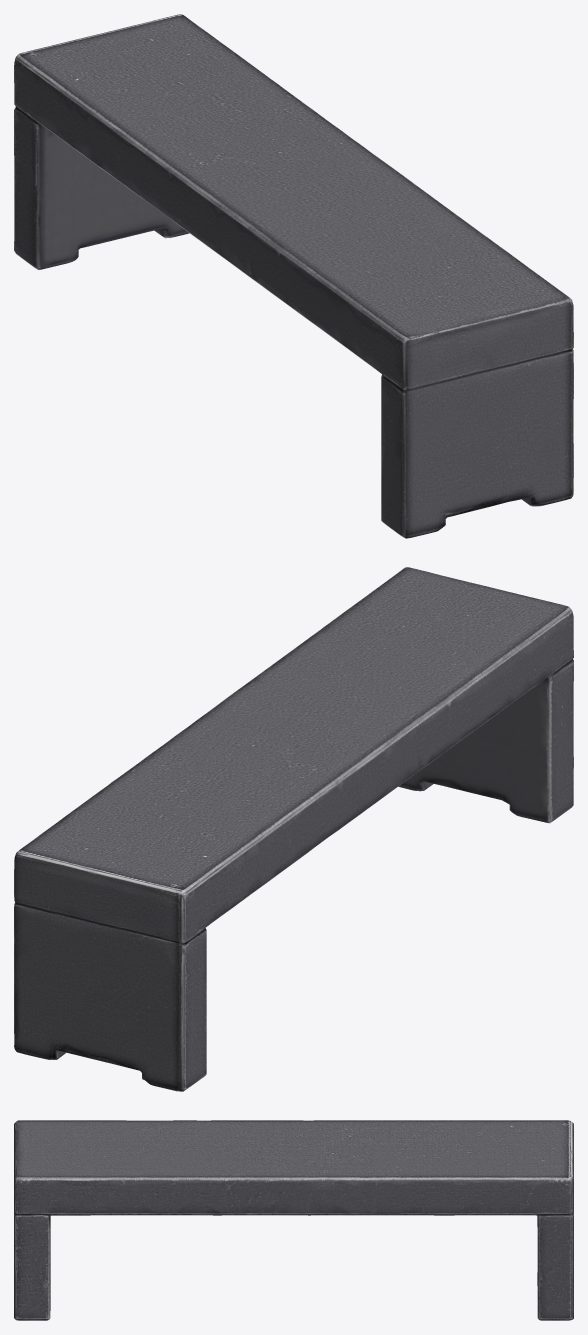
File: PROP-BENCH.glb
The picture shows the model from 3 angles, top to bottom: view 1: azimuth 30°, elevation 25°; view 2: azimuth 150°, elevation 25°; view 3: azimuth 270°, elevation 25°; orthographic projection. The views are drawn at different scales.
Parts seen in each view (by area): view 1: tripo_node_f3ae5bd3-fcc8-4c4a-beaa-9c4826be9247; view 2: tripo_node_f3ae5bd3-fcc8-4c4a-beaa-9c4826be9247; view 3: tripo_node_f3ae5bd3-fcc8-4c4a-beaa-9c4826be9247.
Part boxes in pixels (<box>): tripo_node_f3ae5bd3-fcc8-4c4a-beaa-9c4826be9247: <box>14,14,573,538</box>; tripo_node_f3ae5bd3-fcc8-4c4a-beaa-9c4826be9247: <box>14,567,573,1091</box>; tripo_node_f3ae5bd3-fcc8-4c4a-beaa-9c4826be9247: <box>14,1120,573,1320</box>.
Bounding box in the file's own units: 0.252 × 0.2816 × 1.
1 material, 1 textured.
